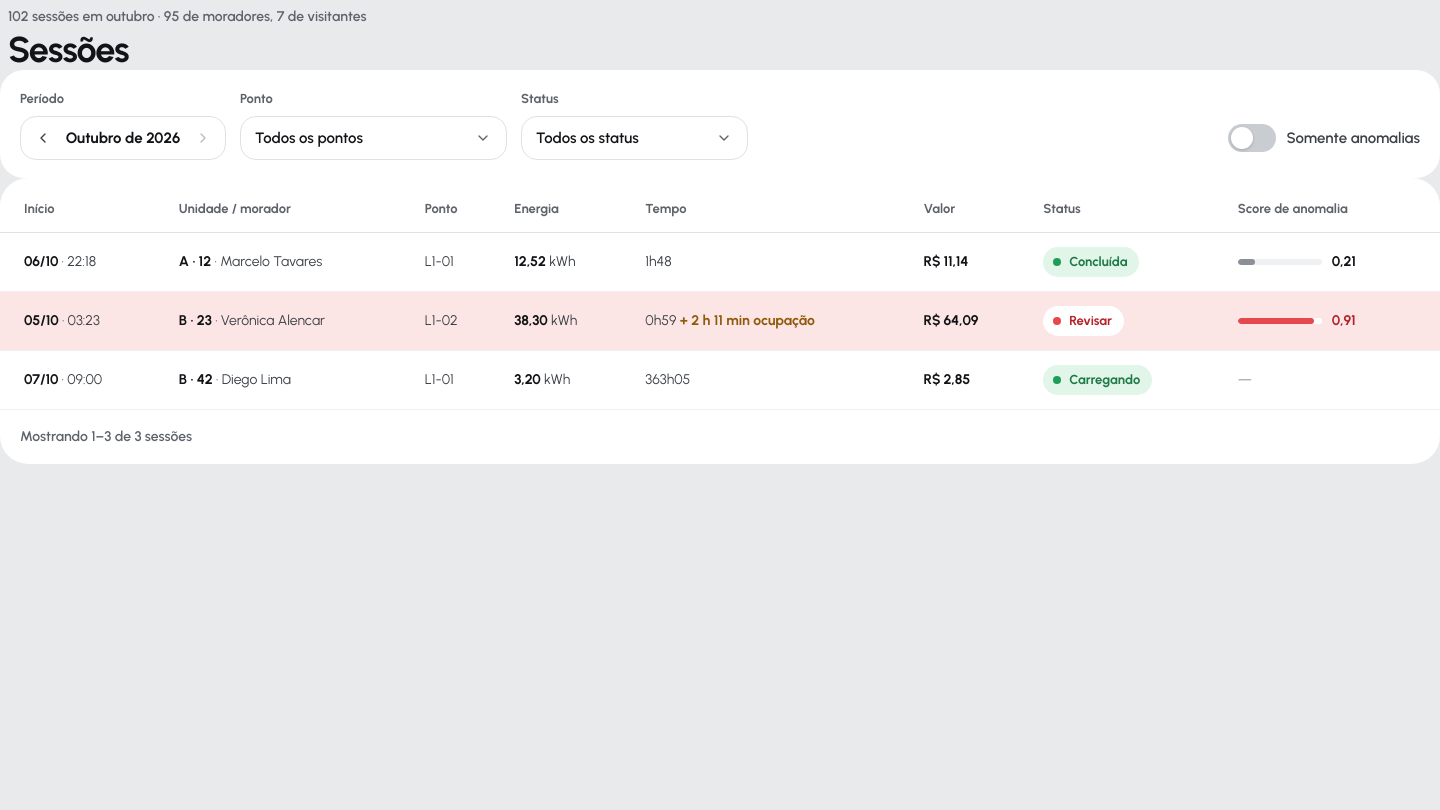
SessionsRoute › shows an error in the drawer when the detail fails to load
Click the button named "Ver detalhes da sessão de Verônica Alencar".
click(62, 321)  # box x1=24 y1=310 x2=100 y2=332
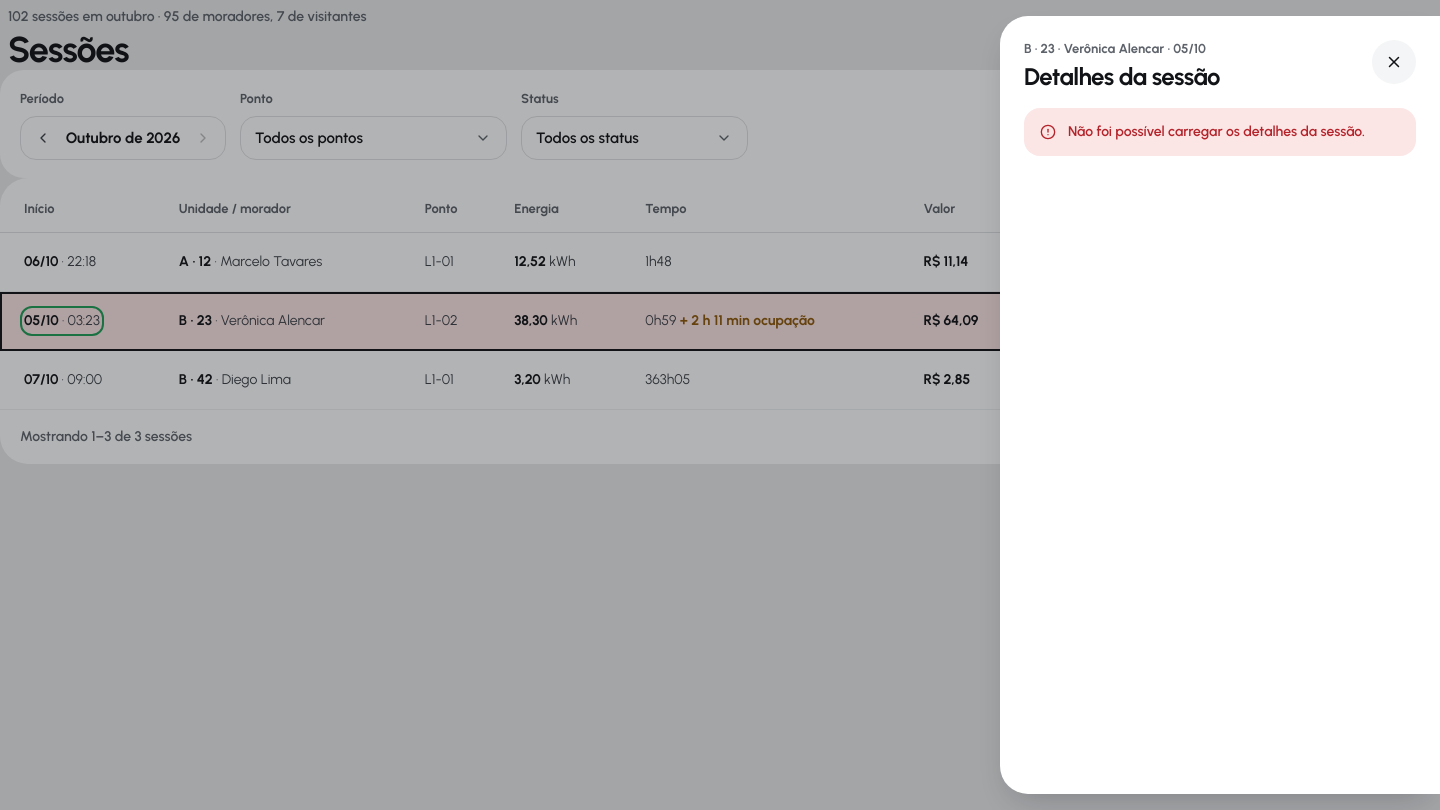
Now the message reads "Não foi possível carregar os detalhes da sessão.", box x1=1068 y1=123 x2=1365 y2=140
